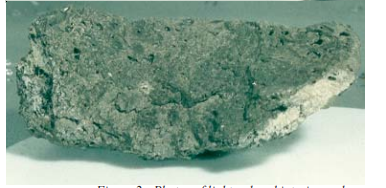Basalt: (25, 9, 357, 138)
